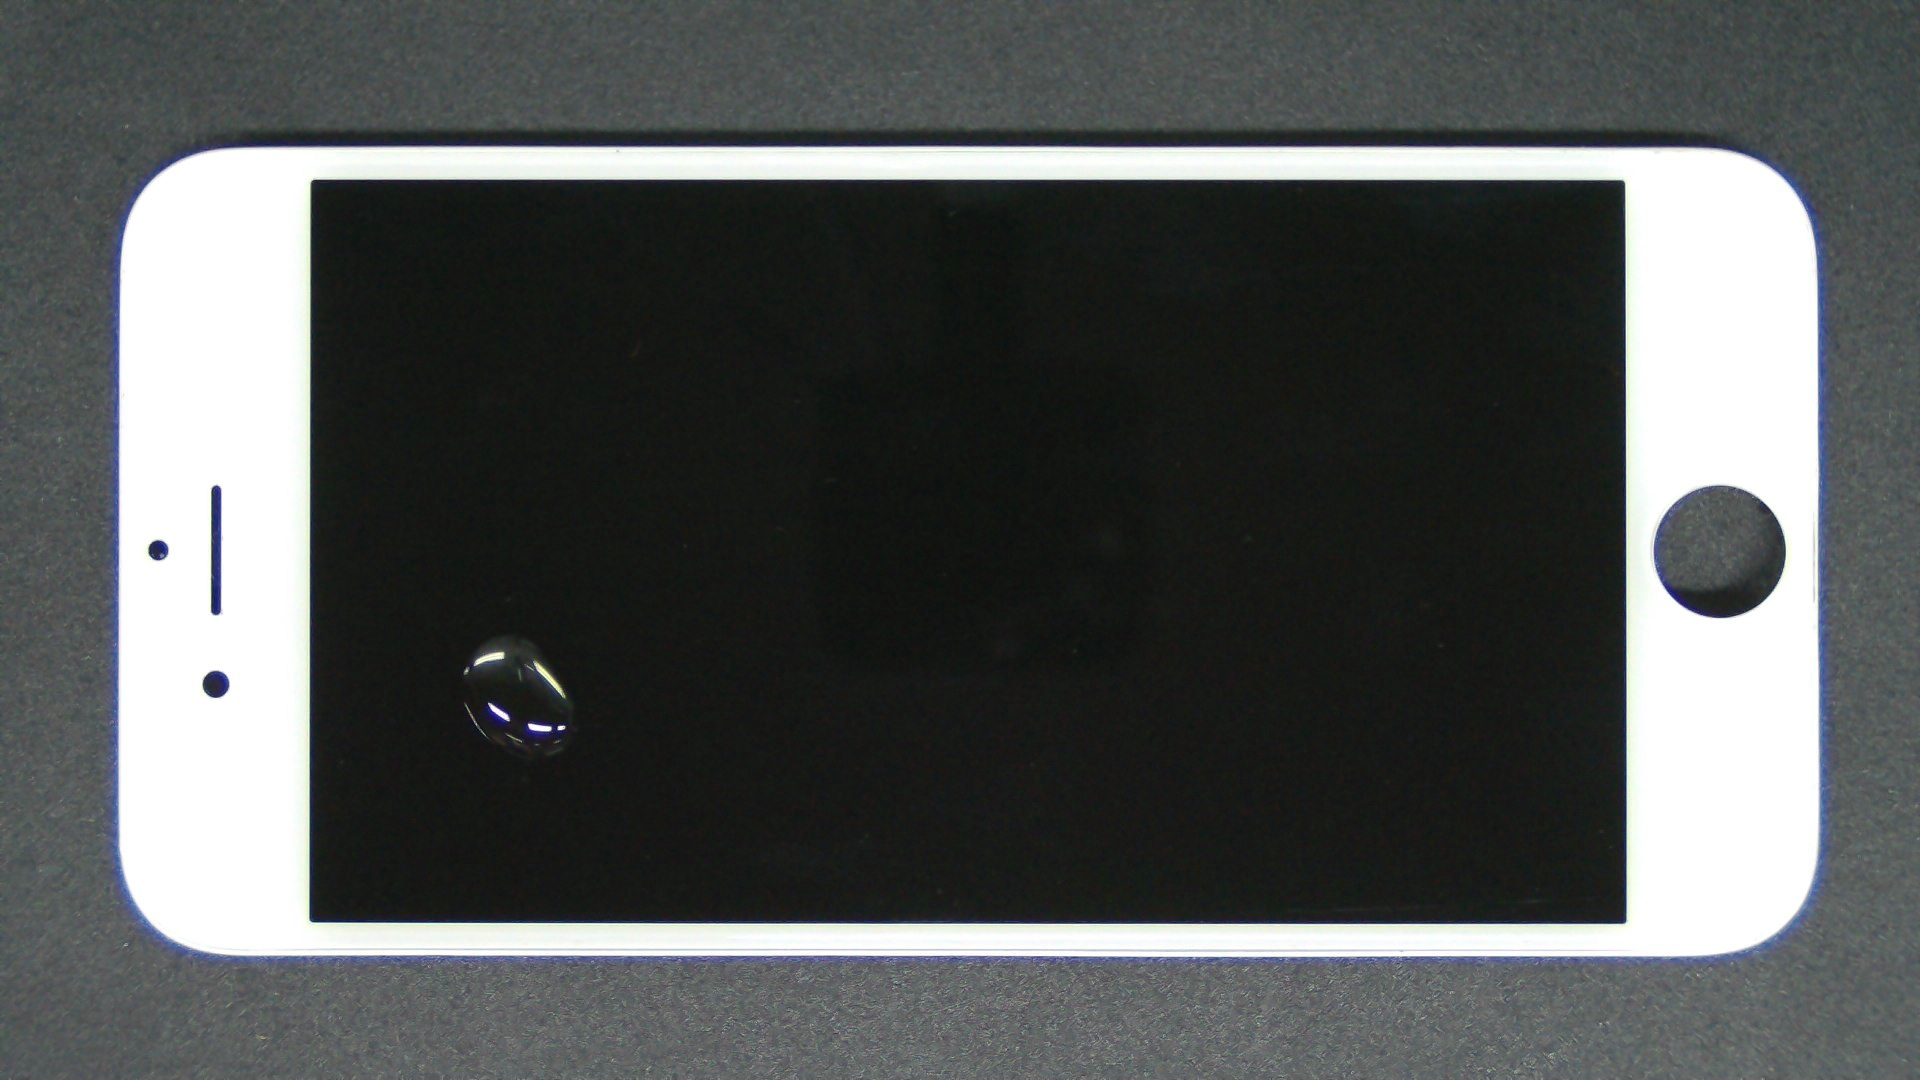oil: (251, 318, 752, 955)
